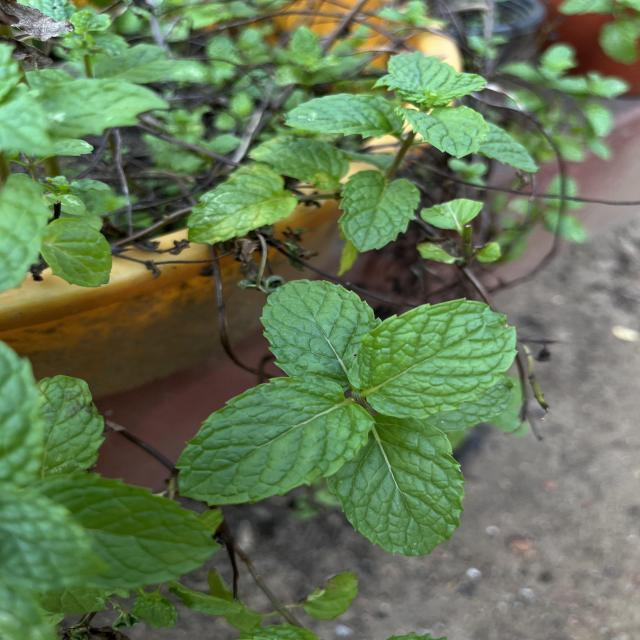Mentha spicata: (172, 373, 377, 508), (344, 294, 522, 421), (325, 420, 468, 558), (257, 278, 383, 376), (338, 170, 422, 253)
